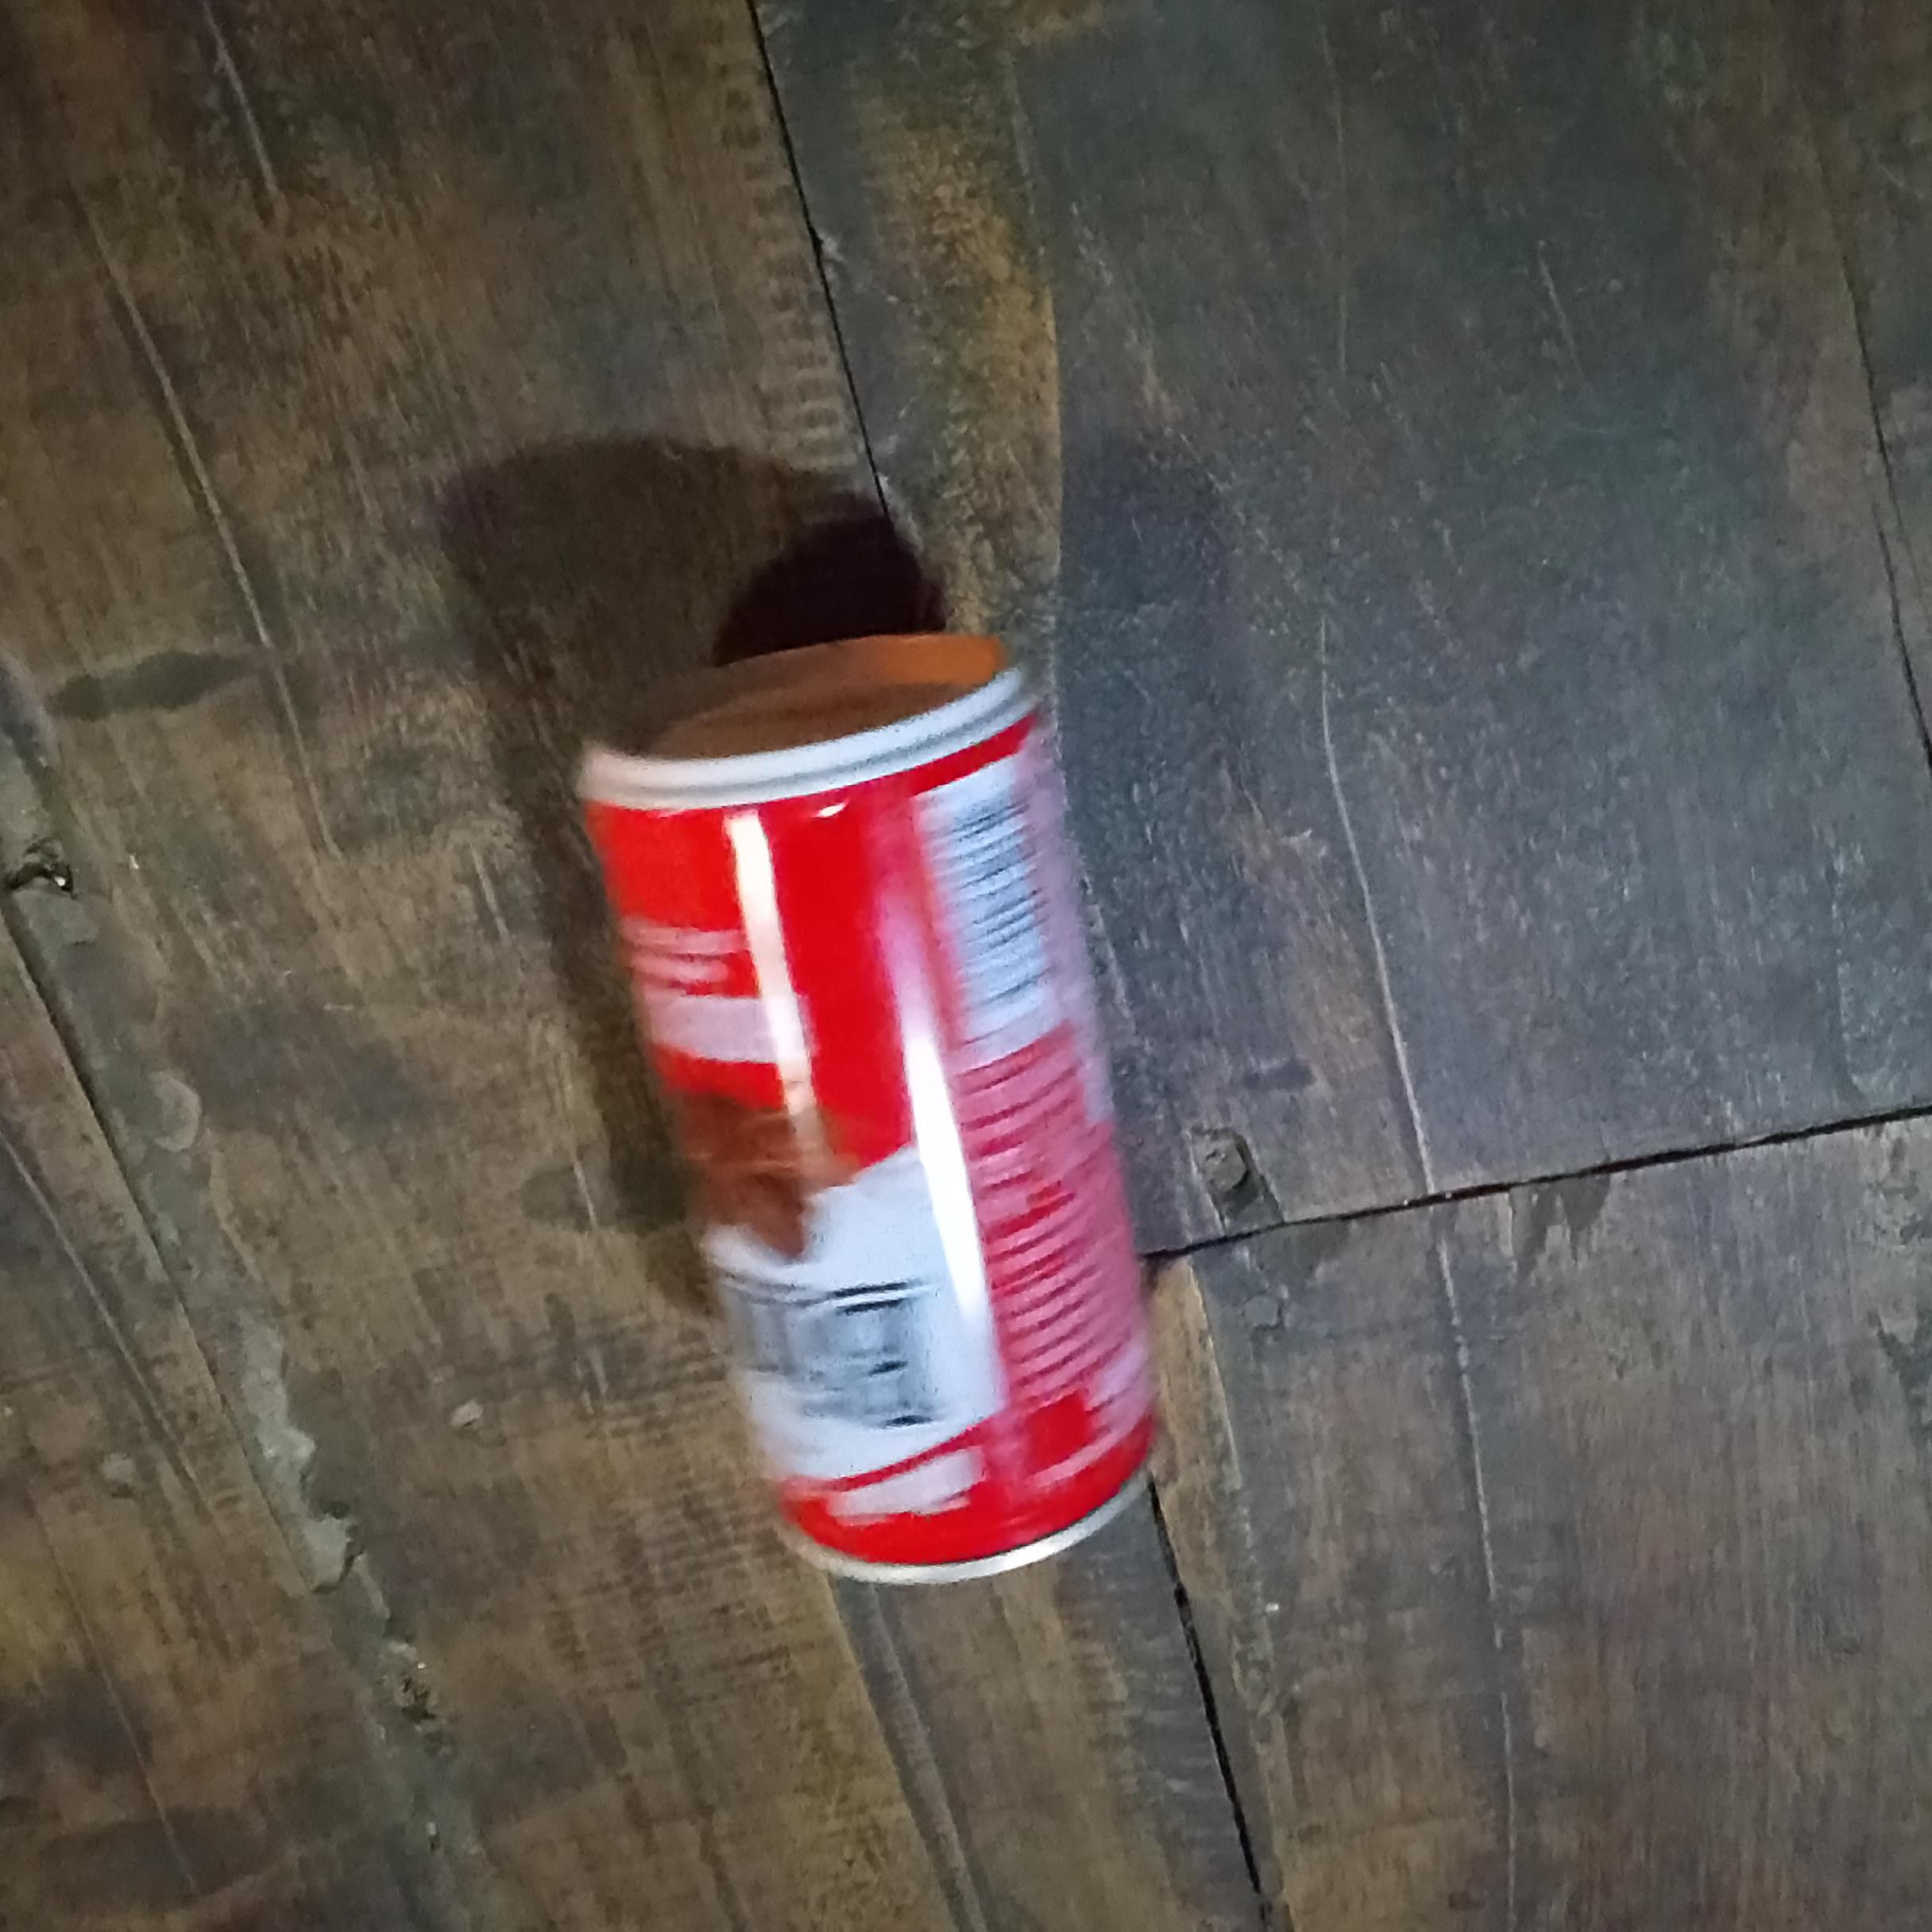can: (584, 639, 1152, 1580)
